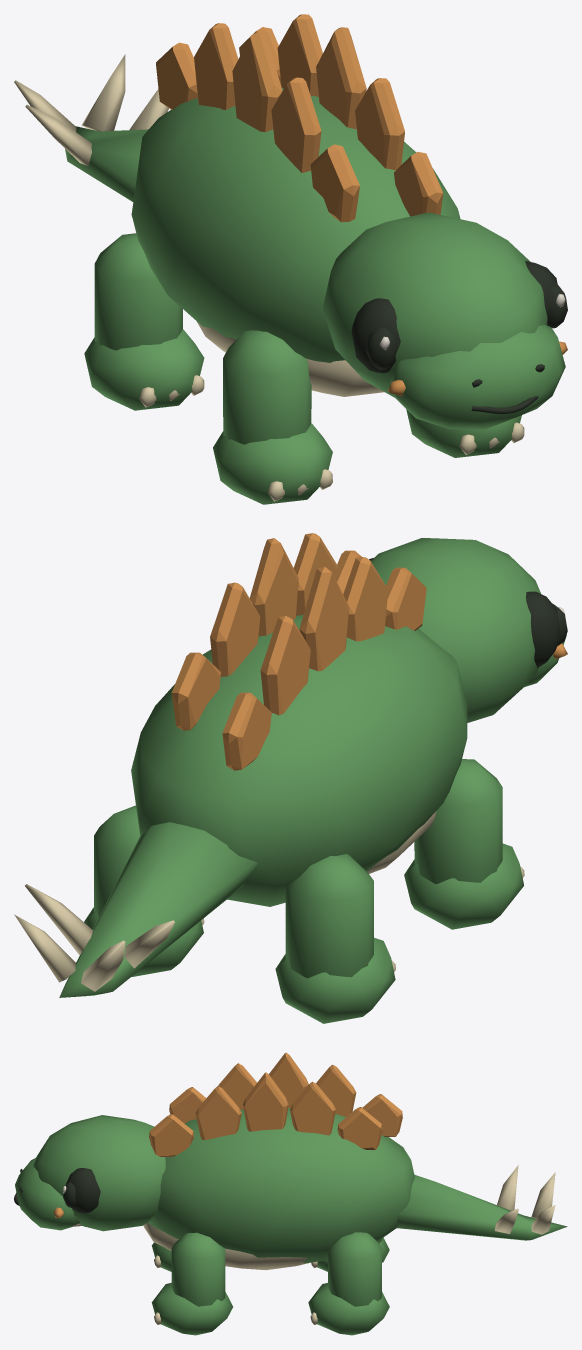
Rendered from org_stegosaurus.glb.
The picture shows the model from 3 angles, top to bottom: view 1: azimuth 30°, elevation 25°; view 2: azimuth 150°, elevation 25°; view 3: azimuth 270°, elevation 25°; orthographic projection. The views are drawn at different scales.
Visible parts, largest first — view 1: Body, Head, Leg_FR, Leg_BR, Tail, Leg_FL, Eye_R, Eye_L; view 2: Body, Tail, Head, Leg_BR, Leg_FR, Leg_BL, Eye_R; view 3: Body, Head, Tail, Leg_FL, Leg_BL, Eye_L, Leg_FR.
Boxes of the visible parts, <box> form: Body: <box>131,14,460,396</box>; Head: <box>322,212,567,429</box>; Leg_FR: <box>213,330,332,504</box>; Leg_BR: <box>84,233,204,410</box>; Tail: <box>14,54,168,201</box>; Leg_FL: <box>406,409,524,457</box>; Eye_R: <box>351,298,400,373</box>; Eye_L: <box>525,261,567,328</box>; Body: <box>131,533,467,906</box>; Tail: <box>14,822,257,997</box>; Head: <box>371,538,567,722</box>; Leg_BR: <box>275,854,395,1023</box>; Leg_FR: <box>404,759,524,929</box>; Leg_BL: <box>84,805,204,976</box>; Eye_R: <box>526,591,567,667</box>; Body: <box>143,1052,414,1270</box>; Head: <box>14,1115,165,1231</box>; Tail: <box>396,1165,567,1240</box>; Leg_FL: <box>151,1232,232,1335</box>; Leg_BL: <box>308,1232,389,1335</box>; Eye_L: <box>62,1168,100,1213</box>; Leg_FR: <box>151,1242,171,1271</box>.
Size of the model in its own units: 1.24 by 1.6 by 3.34.
